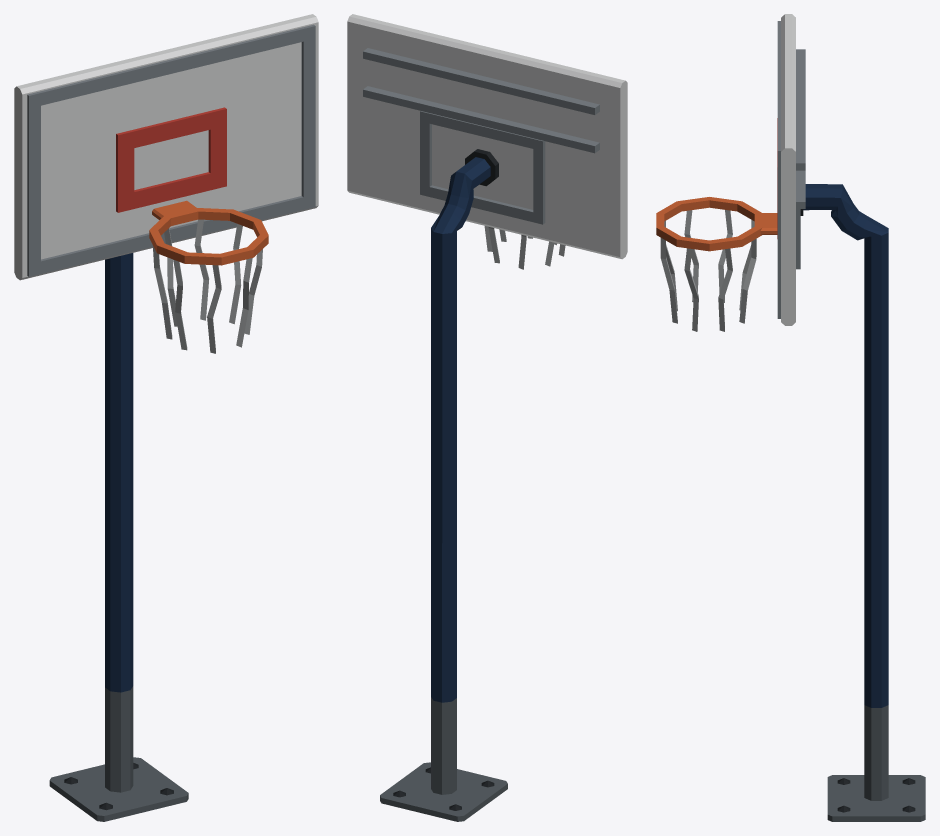
Rendered from yard-basketball-post-b71ee3.glb.
The picture shows the model from 3 angles, left to right: view 1: azimuth 30°, elevation 25°; view 2: azimuth 150°, elevation 25°; view 3: azimuth 270°, elevation 25°; orthographic projection. The views are drawn at different scales.
Visible parts, largest first — view 1: post, net-mesh; view 2: post, net-mesh; view 3: post, net-mesh.
Part boxes in pixels (x1=…): post: x1=14, y1=14, x2=318, y2=821; net-mesh: x1=152, y1=219, x2=262, y2=353; post: x1=347, y1=14, x2=627, y2=821; net-mesh: x1=484, y1=226, x2=565, y2=269; post: x1=656, y1=14, x2=925, y2=821; net-mesh: x1=660, y1=210, x2=756, y2=331.
Size of the model in its own units: 1.2 by 3 by 1.02.
